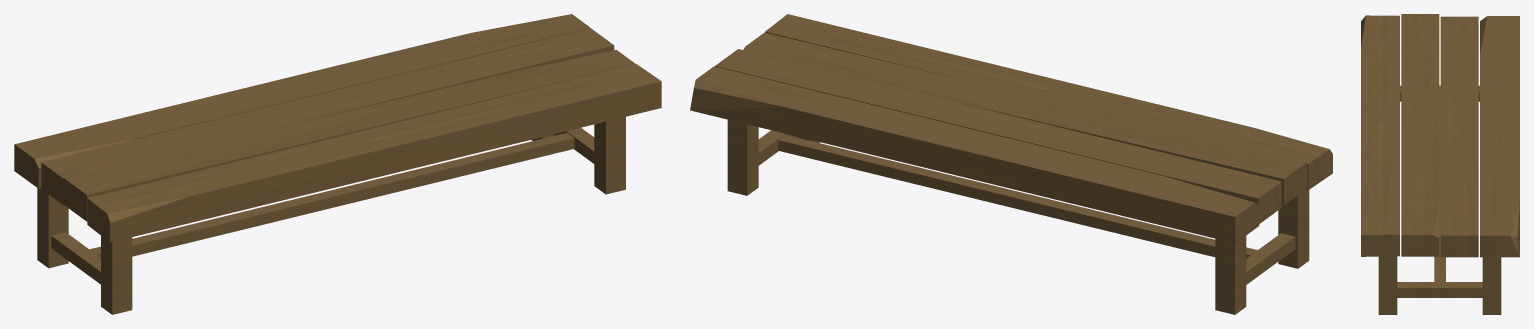
File: SM_ENV_LKNVLD_Bench_A.FBX
3 views of the same model, side by side, from view 1: azimuth 30°, elevation 25°; view 2: azimuth 150°, elevation 25°; view 3: azimuth 270°, elevation 25° (orthographic). The views are drawn at different scales.
Parts seen in each view (by area): view 1: SM_ENV_LKNVLD_Bench_A; view 2: SM_ENV_LKNVLD_Bench_A; view 3: SM_ENV_LKNVLD_Bench_A.
Part boxes in pixels (x1=…): SM_ENV_LKNVLD_Bench_A: x1=14, y1=14, x2=661, y2=314; SM_ENV_LKNVLD_Bench_A: x1=690, y1=14, x2=1332, y2=314; SM_ENV_LKNVLD_Bench_A: x1=1361, y1=14, x2=1519, y2=314.
Size of the model in its own units: 267 by 51.91 by 81.29.
